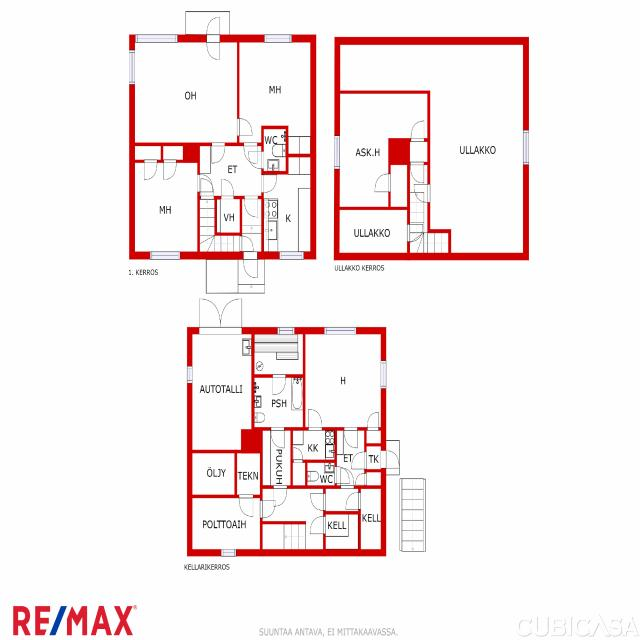door: (220, 299, 242, 334), (199, 299, 220, 334), (244, 252, 258, 278), (380, 451, 400, 468), (207, 34, 220, 60), (207, 17, 220, 42), (239, 495, 253, 517), (344, 427, 358, 448), (272, 374, 286, 395), (244, 196, 258, 217), (197, 174, 213, 192), (414, 184, 430, 202), (407, 224, 423, 242), (375, 174, 391, 192), (212, 142, 225, 164), (244, 142, 257, 164), (411, 120, 424, 142), (271, 427, 284, 448), (309, 409, 322, 430), (201, 178, 214, 199), (411, 162, 424, 183), (310, 493, 326, 510), (261, 175, 277, 192), (310, 516, 325, 534), (274, 486, 287, 506), (341, 468, 354, 488), (144, 160, 157, 180), (221, 179, 234, 199), (248, 152, 264, 168), (260, 501, 275, 518), (237, 119, 252, 136), (164, 160, 176, 180), (346, 492, 360, 509), (352, 452, 366, 469), (335, 467, 349, 483), (367, 412, 379, 430), (240, 236, 253, 251), (356, 473, 366, 485), (294, 448, 302, 463)
